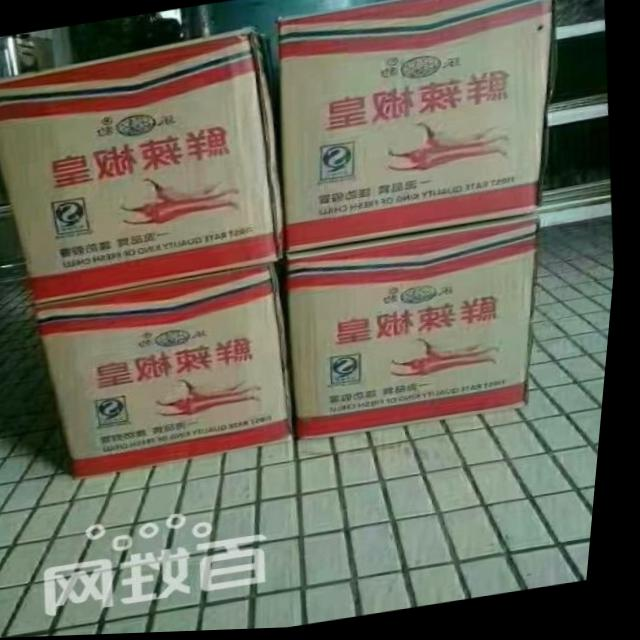box: (0, 26, 289, 305), (274, 0, 554, 255), (289, 216, 546, 444), (39, 267, 305, 482)
